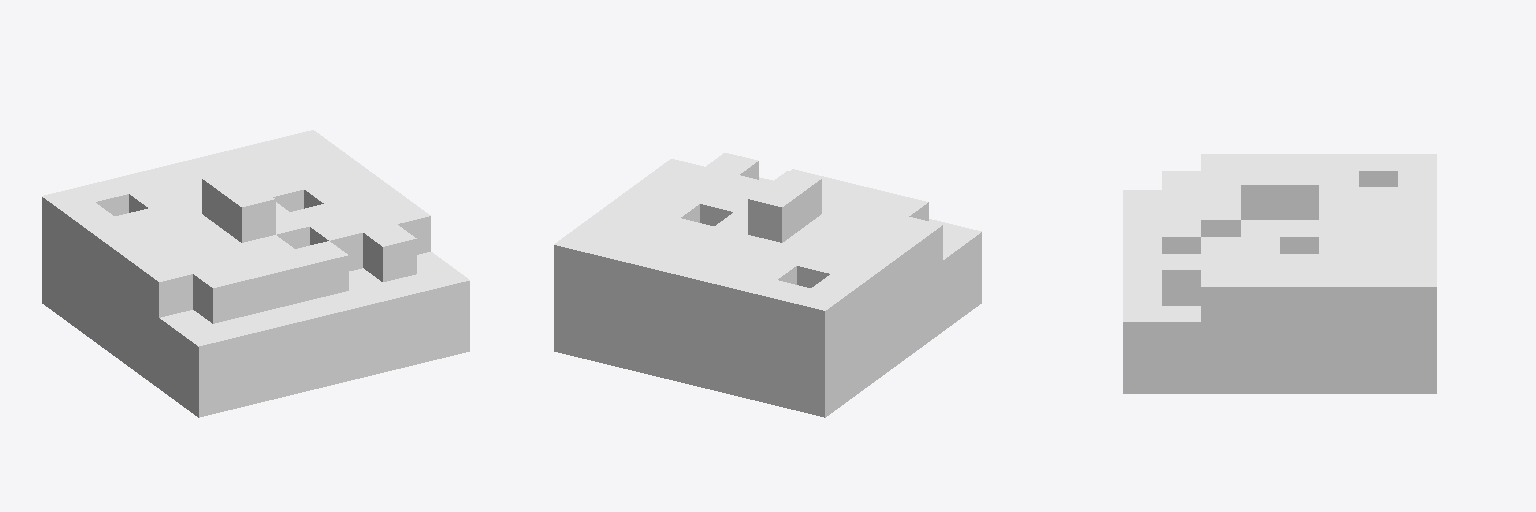
Rendered from Lava11.obj.
The picture shows the model from 3 angles: view 1: azimuth 30°, elevation 25°; view 2: azimuth 150°, elevation 25°; view 3: azimuth 270°, elevation 25°; orthographic projection.
Visible parts, largest first — view 1: object 1; view 2: object 1; view 3: object 1.
Boxes of the visible parts, box(x1,y1,x2,y2) form: object 1: box(42, 130, 469, 417); object 1: box(554, 153, 981, 417); object 1: box(1123, 154, 1436, 393).
Size of the model in its own units: 0.8 by 0.4 by 0.8.